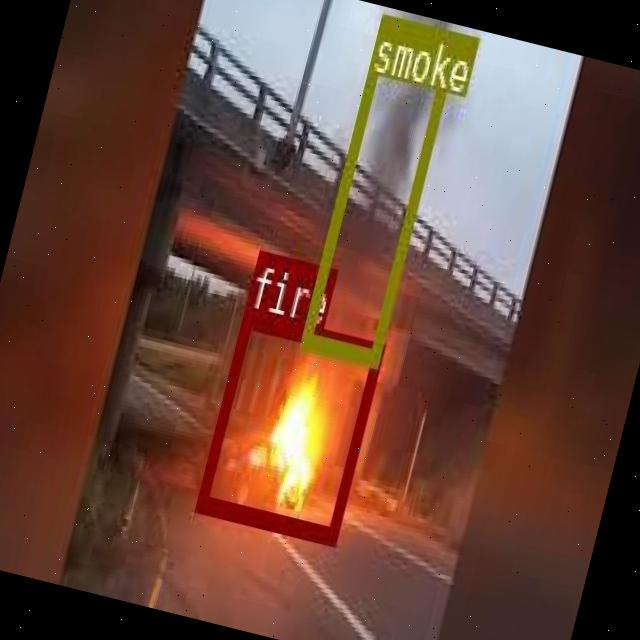fire: (195, 306, 383, 542)
smoke: (298, 9, 460, 363)
